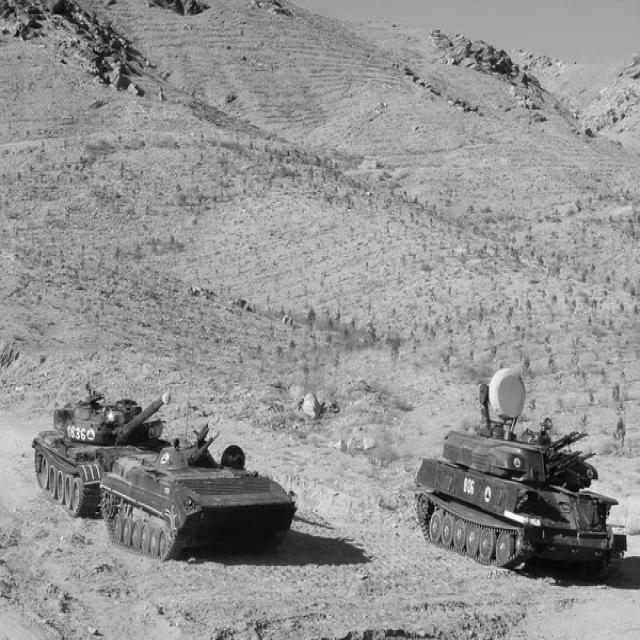Tank: (412, 401, 630, 585), (98, 430, 298, 567), (35, 383, 161, 515)
